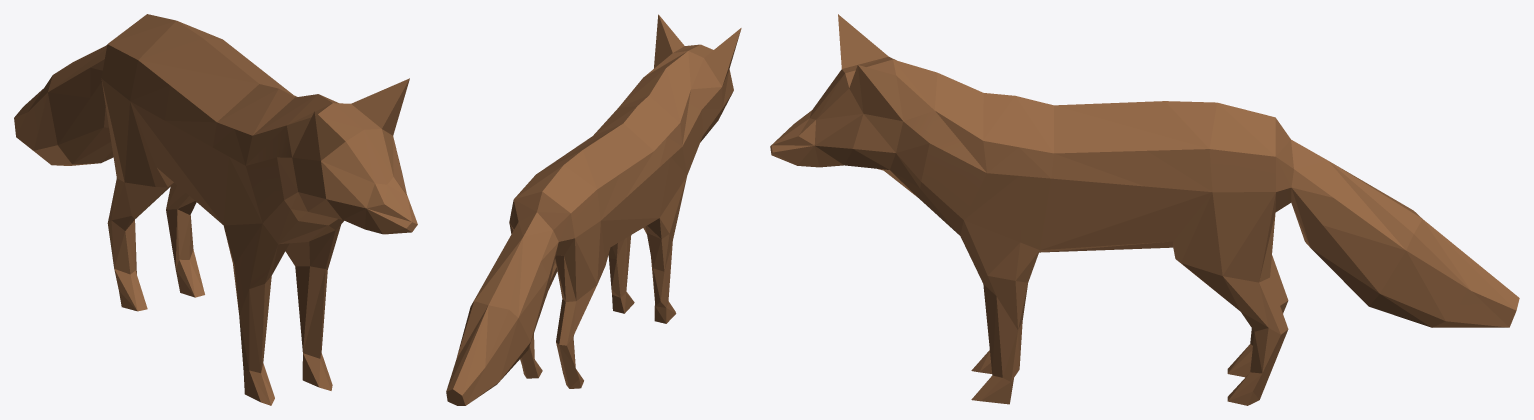
The model's file is fox_1.obj.
The picture shows the model from 3 angles, left to right: view 1: azimuth 30°, elevation 25°; view 2: azimuth 150°, elevation 25°; view 3: azimuth 270°, elevation 25°; orthographic projection. The views are drawn at different scales.
Parts seen in each view (by area): view 1: fox1; view 2: fox1; view 3: fox1.
Part boxes in pixels (x1,y1,x2,y2): fox1: [14, 14, 417, 405]; fox1: [446, 14, 741, 405]; fox1: [770, 14, 1519, 405].
Size of the model in its own units: 0.6094 by 1.94 by 3.8.
